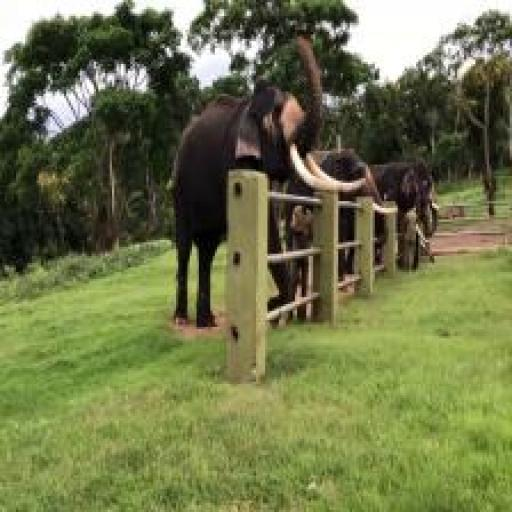Elephant: (164, 50, 324, 175), (414, 156, 440, 241)
